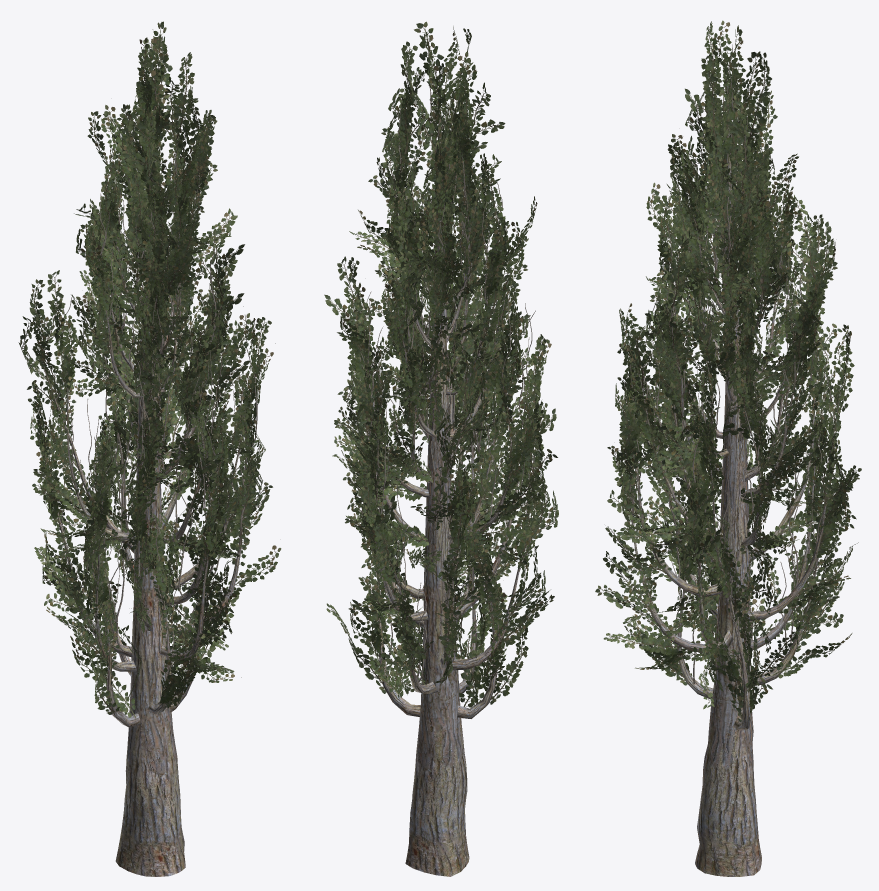
Rendered from peuplier-4.glb.
3 views of the same model, side by side, from view 1: azimuth 30°, elevation 25°; view 2: azimuth 150°, elevation 25°; view 3: azimuth 270°, elevation 25° (orthographic).
Parts seen in each view (by area): view 1: Ash02_LOD0; view 2: Ash02_LOD0; view 3: Ash02_LOD0.
Part boxes in pixels (x1,y1,x2,y2): Ash02_LOD0: [18, 21, 281, 876]; Ash02_LOD0: [324, 21, 558, 876]; Ash02_LOD0: [595, 20, 861, 876].
Size of the model in its own units: 7.22 by 25.68 by 7.51.
2 materials, 2 textured.
